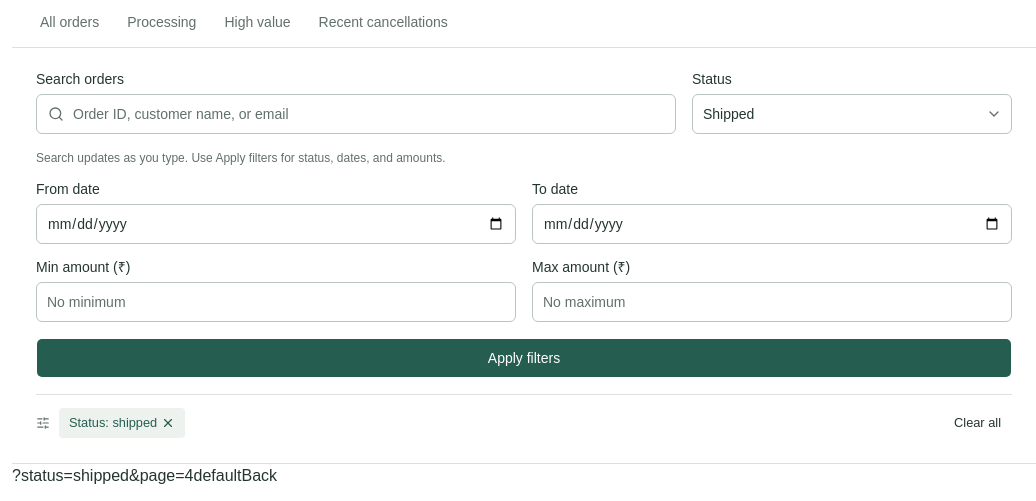
Scenario: a search clears pagination and preserves applied filters
Type "Rahul" into the search field labelled "Search orders".
click(356, 114); type("Rahul")  # box [36,94,676,134]
Wait 350 ms
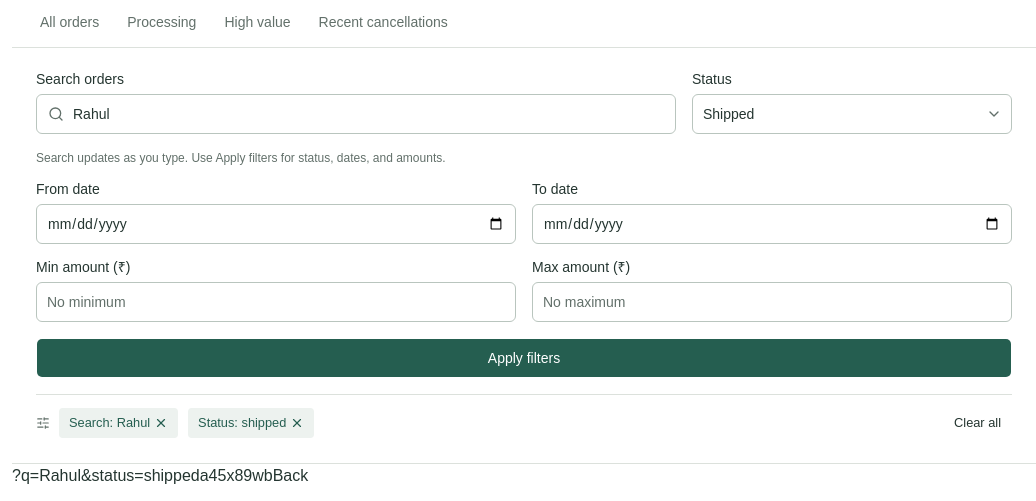
Now the text named "URL" reads "?q=Rahul&status=shipped", box [12,467,200,484]
